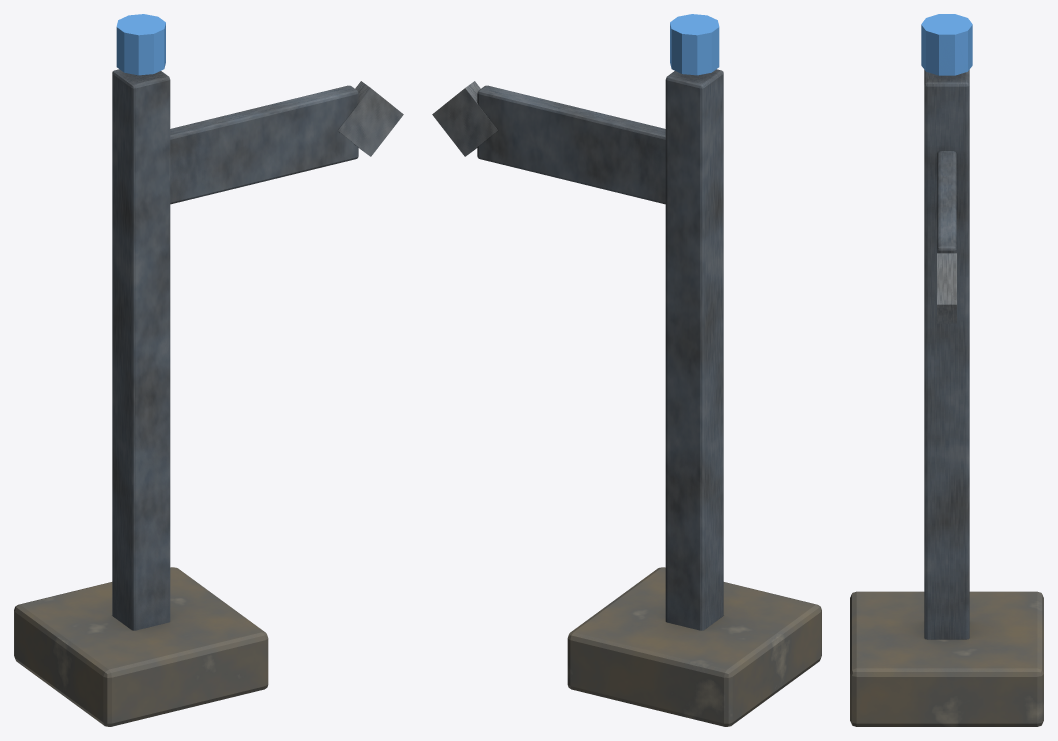
The model's file is route_marker.glb.
3 renders of one model, left to right at view 1: azimuth 30°, elevation 25°; view 2: azimuth 150°, elevation 25°; view 3: azimuth 270°, elevation 25°, orthographic.
Parts seen in each view (by area): view 1: route_marker; view 2: route_marker; view 3: route_marker.
Part boxes in pixels (<box>): route_marker: <box>14,14,403,726</box>; route_marker: <box>432,14,821,726</box>; route_marker: <box>850,14,1043,726</box>.
Bounding box in the file's own units: 1.24 × 2.27 × 0.6.
Materials: 3 (3 with a texture image).
